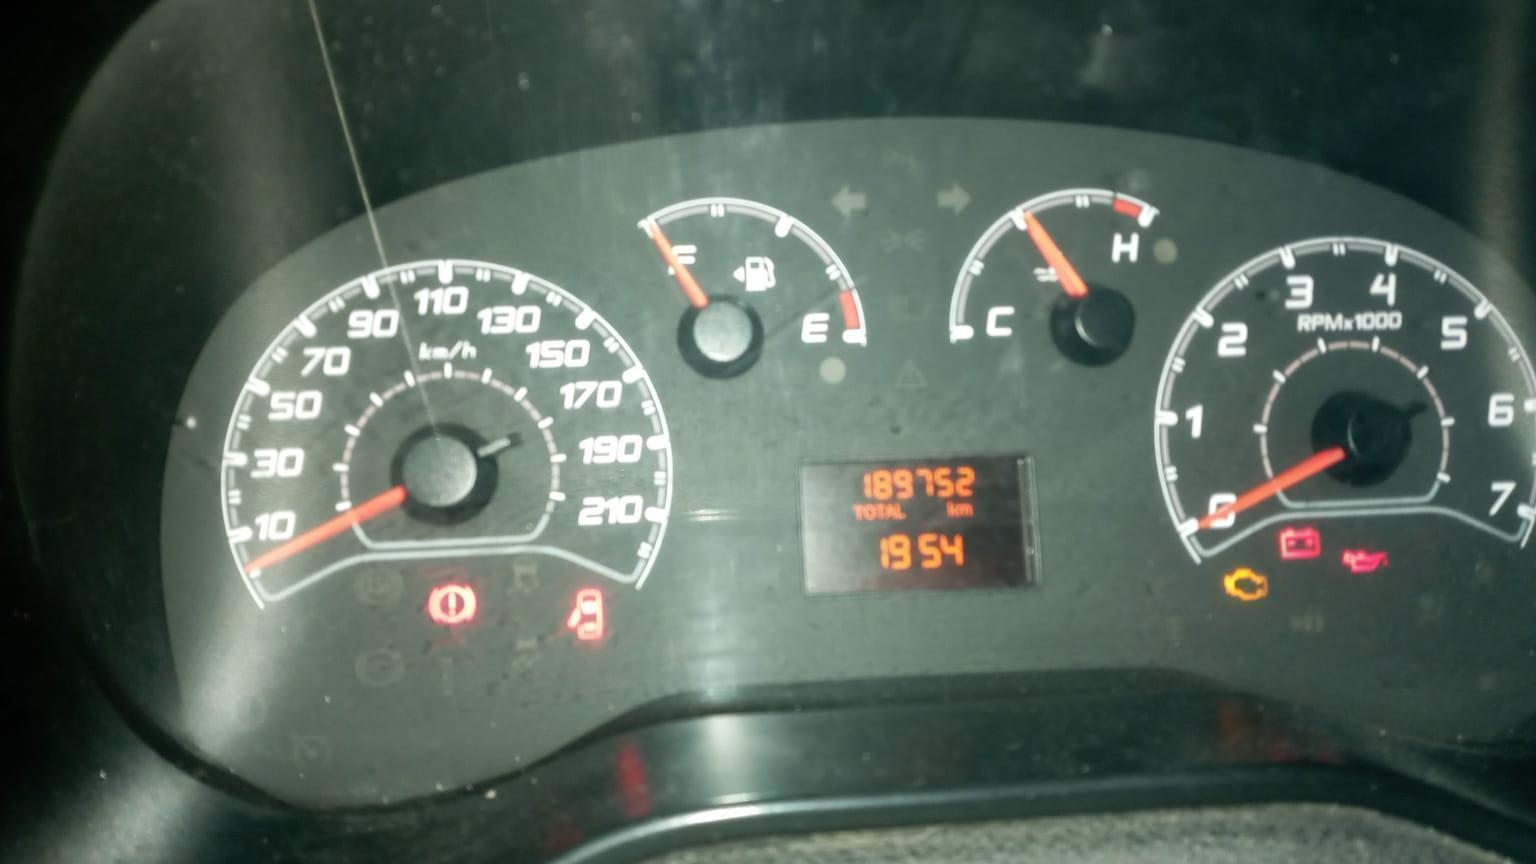1: (879, 536, 889, 569), (863, 472, 871, 498)
2: (954, 466, 975, 497)
4: (939, 533, 964, 567)
5: (917, 533, 942, 569), (934, 466, 955, 497)
7: (915, 468, 934, 496)
8: (871, 469, 892, 499)
9: (888, 534, 911, 569), (892, 468, 913, 499)
X: (862, 504, 877, 520), (883, 503, 896, 520), (894, 503, 906, 520), (851, 503, 863, 521), (873, 503, 886, 519), (946, 501, 959, 517), (958, 503, 974, 516)
odometer: (795, 450, 1047, 600)
